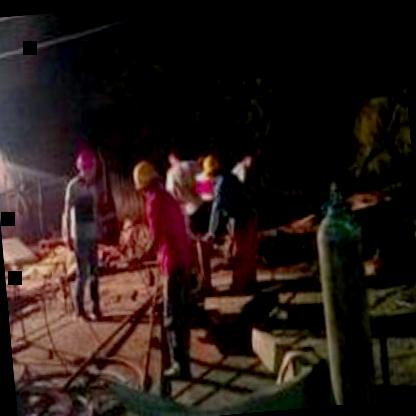helmet: (131, 157, 167, 208), (70, 140, 104, 188), (201, 152, 226, 184)
